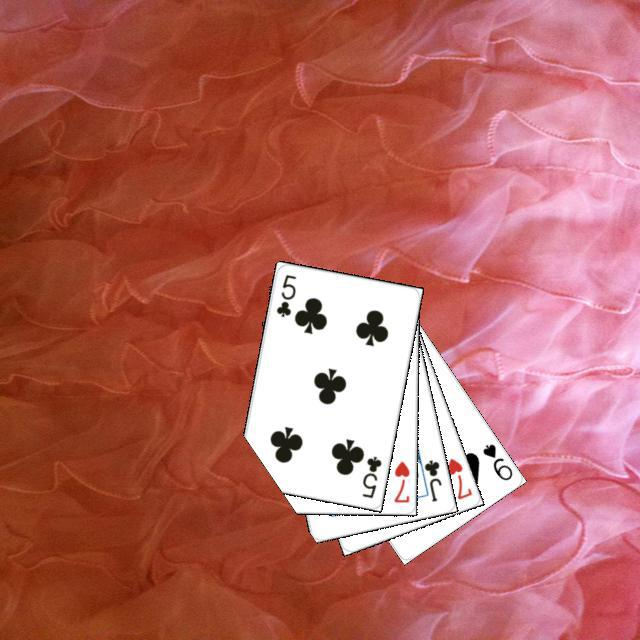5c: (271, 269, 298, 319), (357, 451, 383, 500)
7h: (442, 453, 474, 501), (389, 456, 411, 504)
9s: (478, 439, 514, 482)
Jc: (419, 455, 443, 503)
